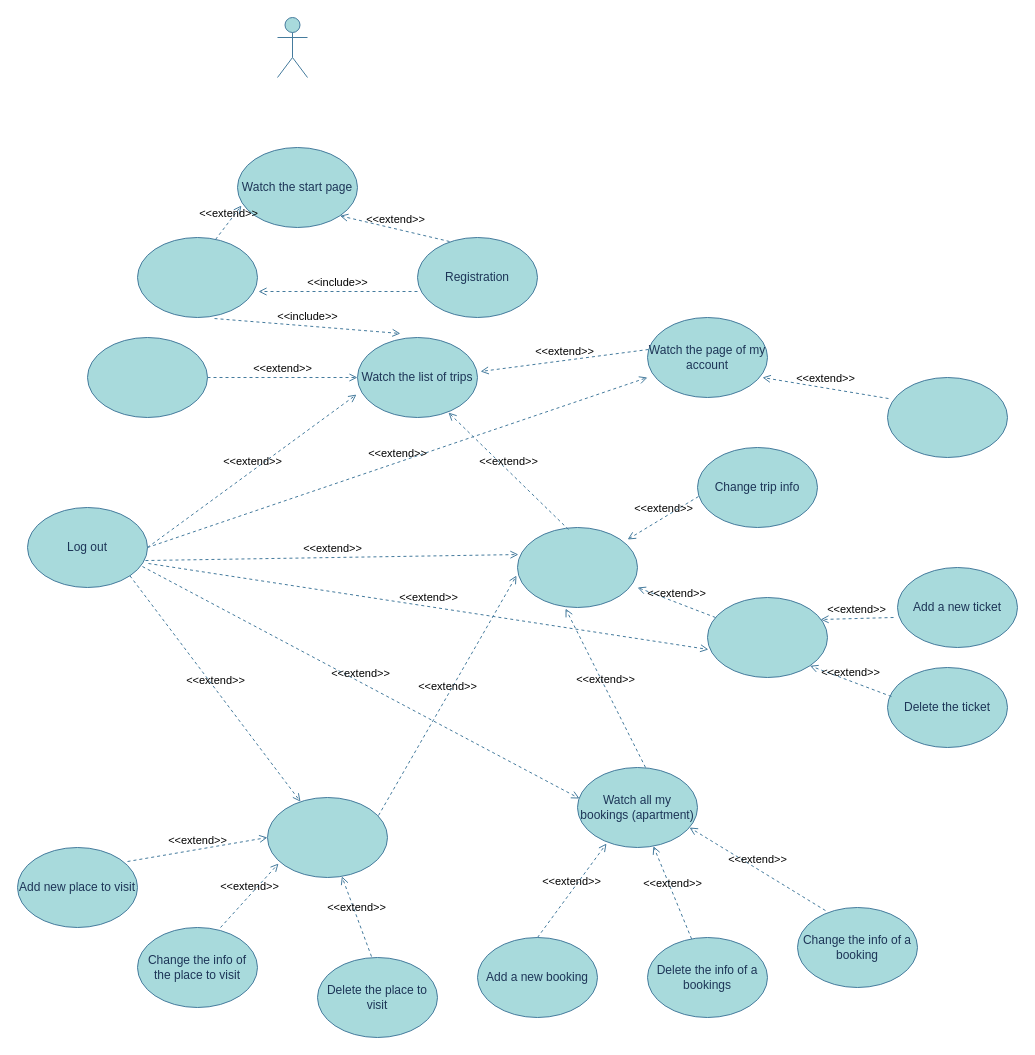
Image size: 1035x1055. Some labels were removed from this diagram. Each missing label, with the centre of its shape:
"Add new trip" belongs at (x=147, y=377).
"Change user info" belongs at (x=947, y=417).
"Enter the trip info page" belongs at (x=577, y=567).
"Login" belongs at (x=197, y=277).
"User" belongs at (x=292, y=47).
"Watch all of tickets for this trip" belongs at (x=767, y=637).
"Watch the list of places to visit" belongs at (x=327, y=837).
